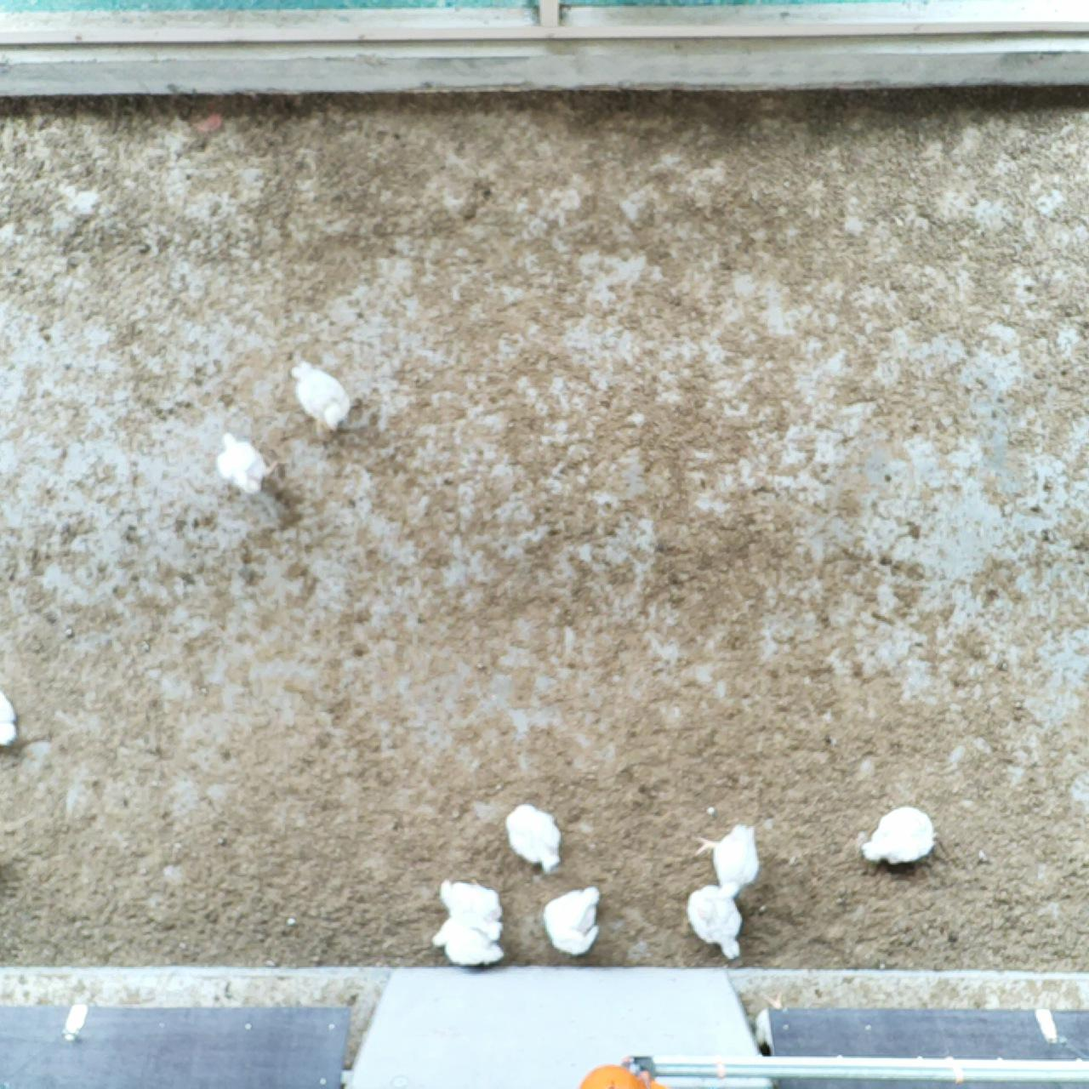chicken: (284, 357, 362, 443), (698, 814, 769, 902), (495, 798, 567, 879), (859, 801, 939, 873), (212, 424, 284, 501), (430, 869, 507, 939), (686, 880, 750, 959), (543, 879, 607, 955), (429, 912, 507, 973), (749, 990, 790, 1060), (0, 688, 28, 750)
